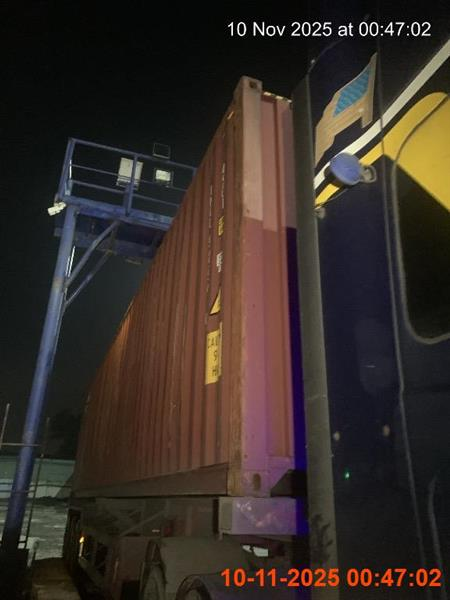broken: (61, 41, 448, 599), (60, 74, 309, 599)
